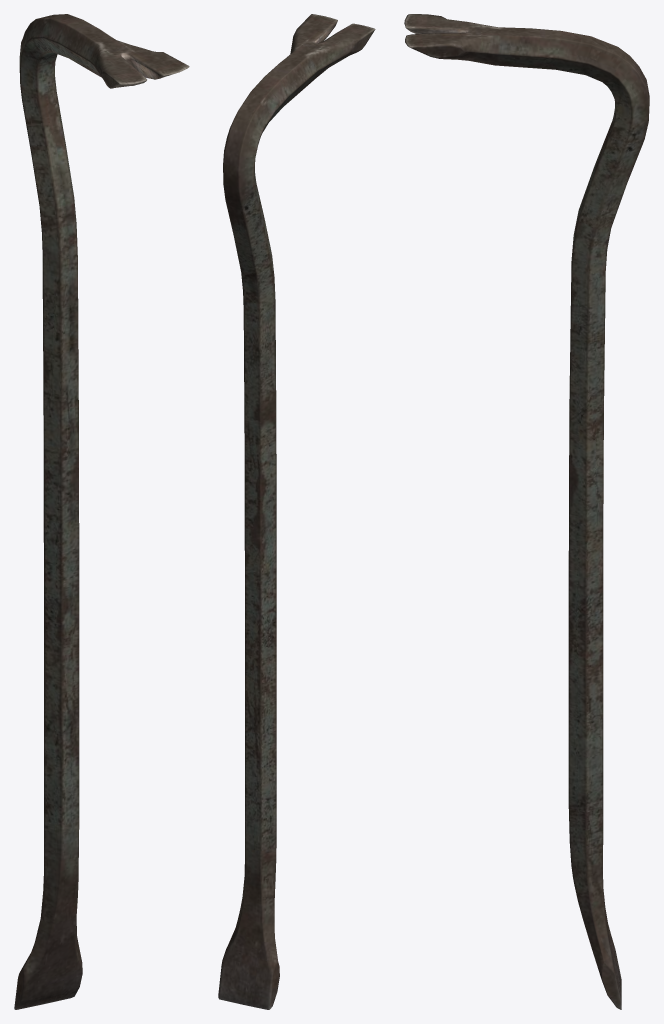
The model's file is hcrowbar.glb.
3 views of the same model, side by side, from view 1: azimuth 30°, elevation 25°; view 2: azimuth 150°, elevation 25°; view 3: azimuth 270°, elevation 25° (orthographic). The views are drawn at different scales.
Parts seen in each view (by area): view 1: hcrowbar; view 2: hcrowbar; view 3: hcrowbar.
Boxes of the visible parts, x1,y1,x2,y2 form: hcrowbar: (14, 14, 189, 1009); hcrowbar: (218, 14, 375, 1009); hcrowbar: (404, 14, 649, 1009).
Size of the model in its own units: 0.0404 by 0.5553 by 0.1276.
1 material, 1 textured.
